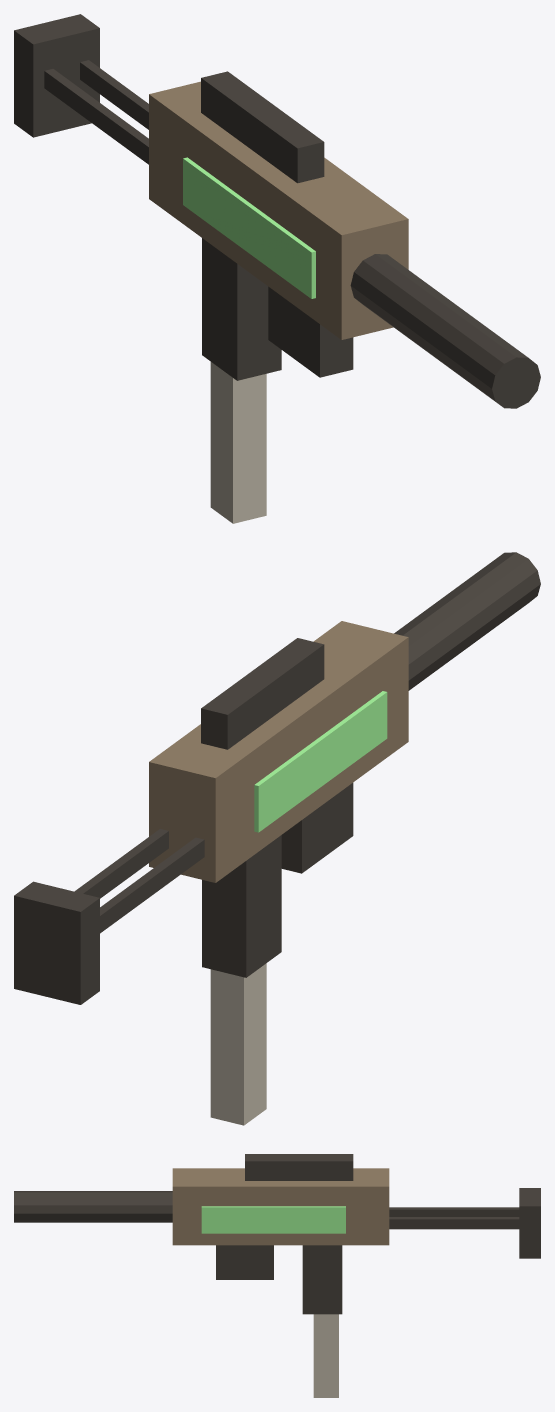
File: weapon_P_SMG.glb
3 views of the same model, one above another, from view 1: azimuth 30°, elevation 25°; view 2: azimuth 150°, elevation 25°; view 3: azimuth 270°, elevation 25° (orthographic). The views are drawn at different scales.
Parts seen in each view (by area): view 1: Body, Mag; view 2: Body, Mag; view 3: Body, Mag.
Boxes of the visible parts, x1,y1,x2,y2 form: Body: [14, 14, 540, 408]; Mag: [210, 362, 266, 523]; Body: [14, 552, 540, 1004]; Mag: [210, 963, 266, 1125]; Body: [14, 1154, 540, 1314]; Mag: [313, 1314, 338, 1397].
Bounding box in the file's own units: 0.068 × 0.36 × 0.73.
